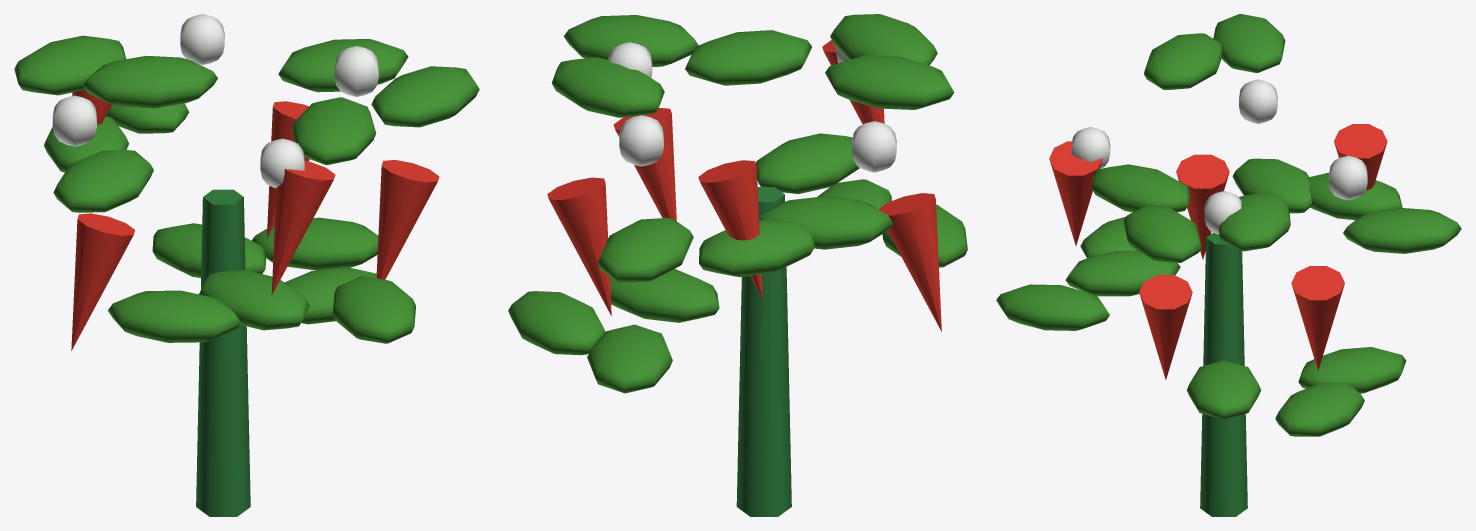
File: pepper-plant.glb
3 renders of one model, left to right at view 1: azimuth 30°, elevation 25°; view 2: azimuth 150°, elevation 25°; view 3: azimuth 270°, elevation 25°, orthographic. The views are drawn at different scales.
Visible parts, largest first — view 1: leaves-pepper-green, fruit-pepper-red, pepper-plant-leaf-dark, flowers-hull-white; view 2: leaves-pepper-green, fruit-pepper-red, pepper-plant-leaf-dark, flowers-hull-white; view 3: leaves-pepper-green, fruit-pepper-red, pepper-plant-leaf-dark, flowers-hull-white.
Part boxes in pixels (x1,y1,x2,y2): leaves-pepper-green: [14, 35, 479, 343]; fruit-pepper-red: [71, 90, 439, 350]; pepper-plant-leaf-dark: [196, 189, 250, 516]; flowers-hull-white: [52, 14, 378, 188]; leaves-pepper-green: [508, 14, 967, 393]; fruit-pepper-red: [547, 40, 941, 331]; pepper-plant-leaf-dark: [736, 187, 791, 516]; flowers-hull-white: [608, 42, 896, 172]; leaves-pepper-green: [996, 14, 1461, 436]; fruit-pepper-red: [1049, 124, 1387, 379]; pepper-plant-leaf-dark: [1200, 232, 1247, 516]; flowers-hull-white: [1071, 79, 1367, 234].
Size of the model in its own units: 0.2832 by 0.3125 by 0.3121.
